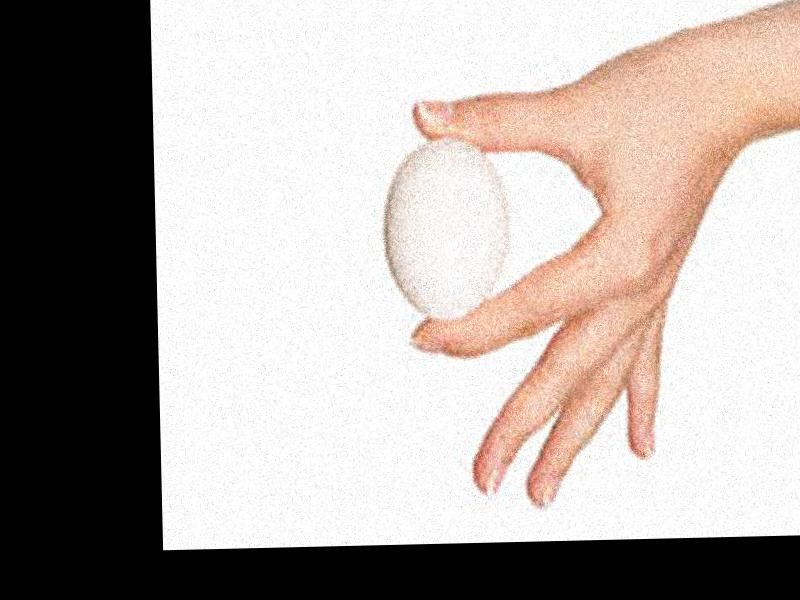Eggs: (378, 136, 512, 323)
